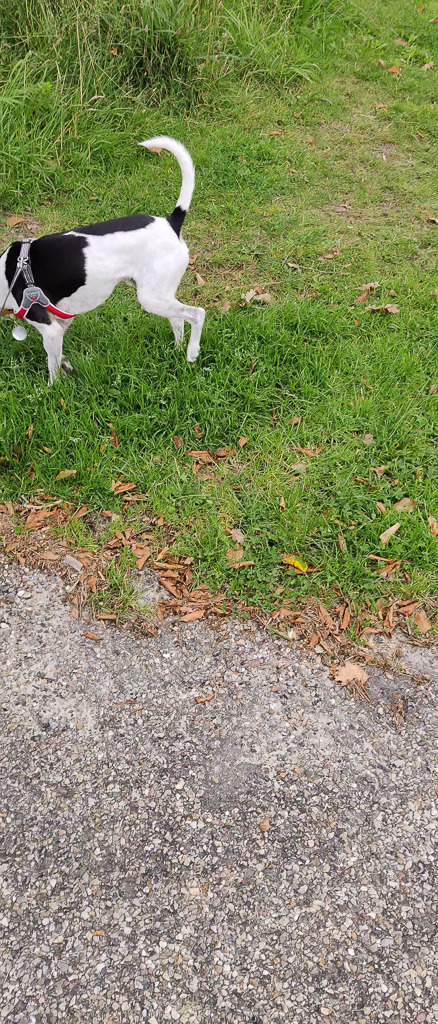Dog: (0, 131, 215, 403)
